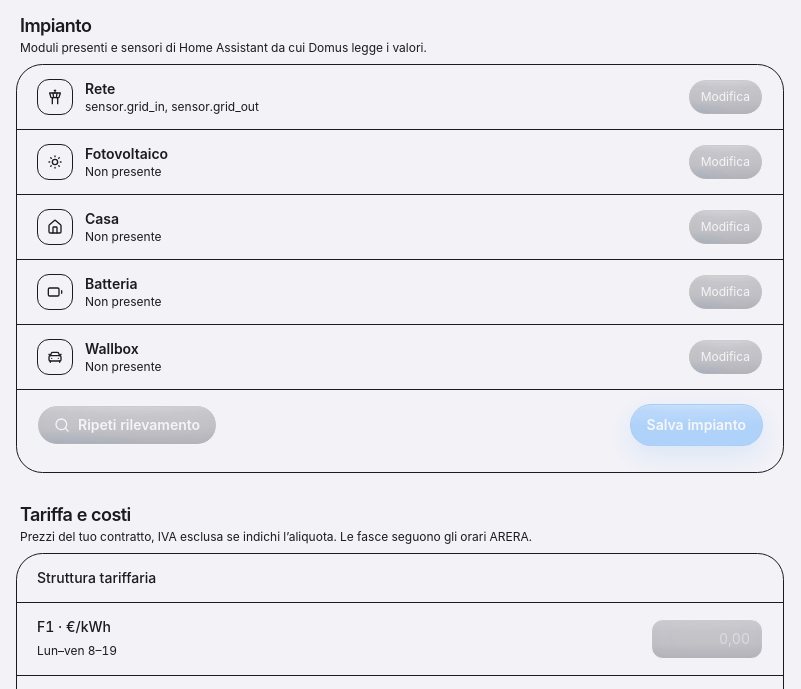
Scenario: Energy settings › saves plant changes without touching the stored tariff
Click the button with aria-label "Modifica Fotovoltaico". click: coordinates (725, 162)
box: [688,144,763,180]
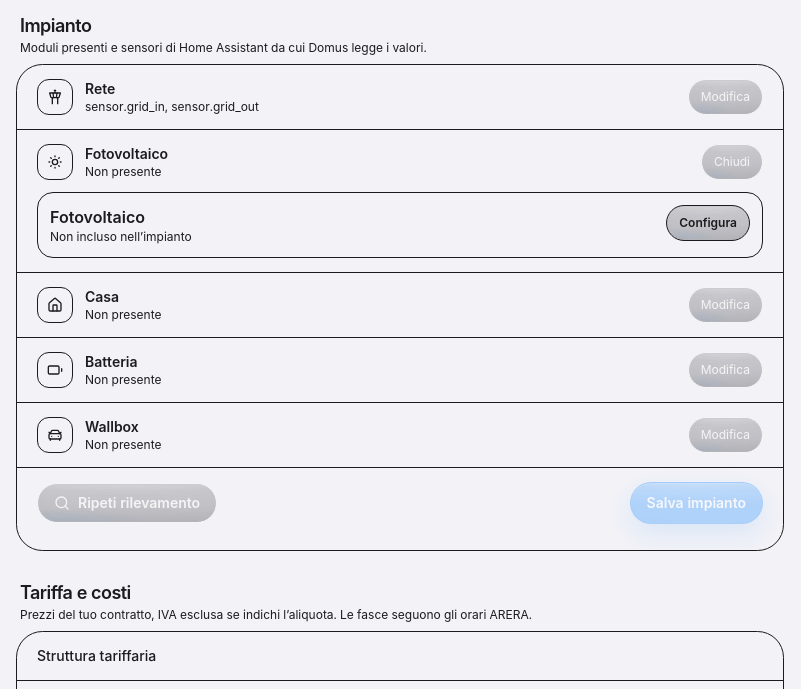
Click the button with aria-label "Configura Fotovoltaico". click: coordinates (708, 223)
box: [666,205,750,241]
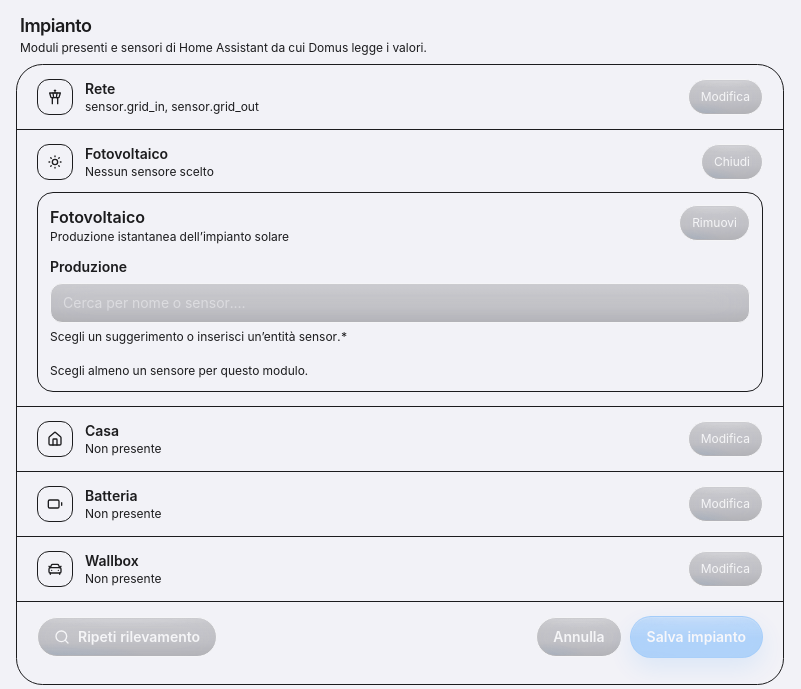
Type "sensor.pv_power" into the dropdown labelled "Produzione". click: coordinates (400, 303)
box: [50,283,750,323]
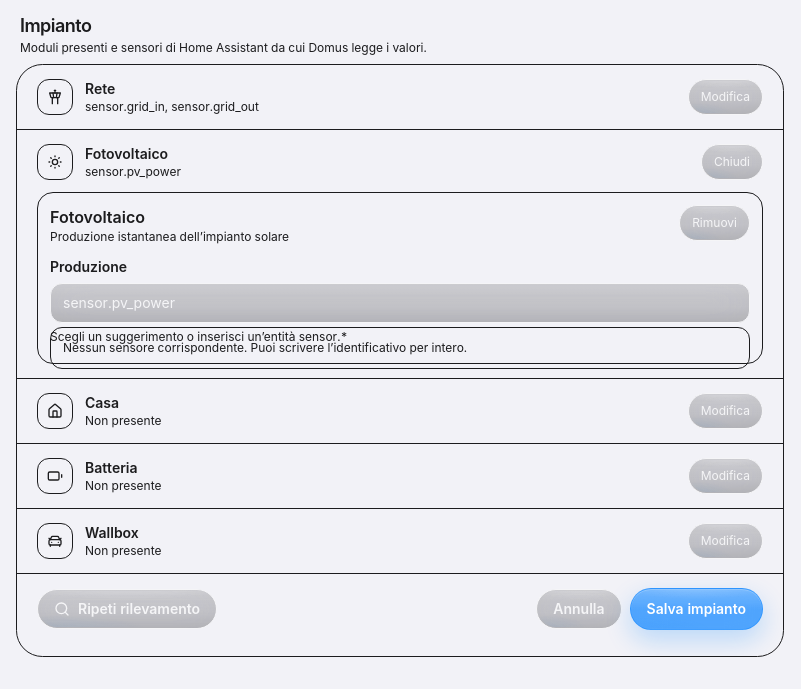
Click the button "Salva impianto". click: coordinates (696, 609)
box: [630,588,763,630]
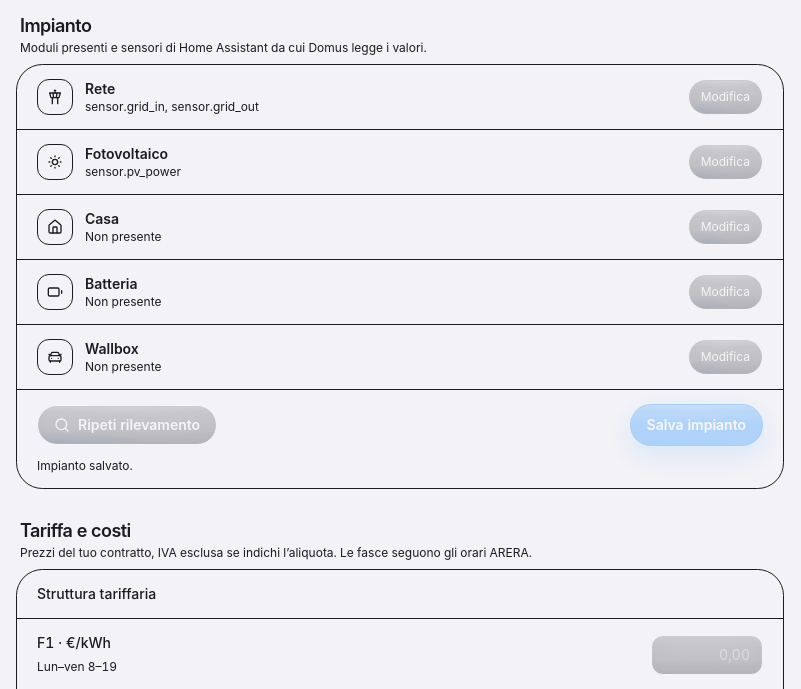
Expected: the text "Impianto salvato." is shown, [37,458,133,473]
